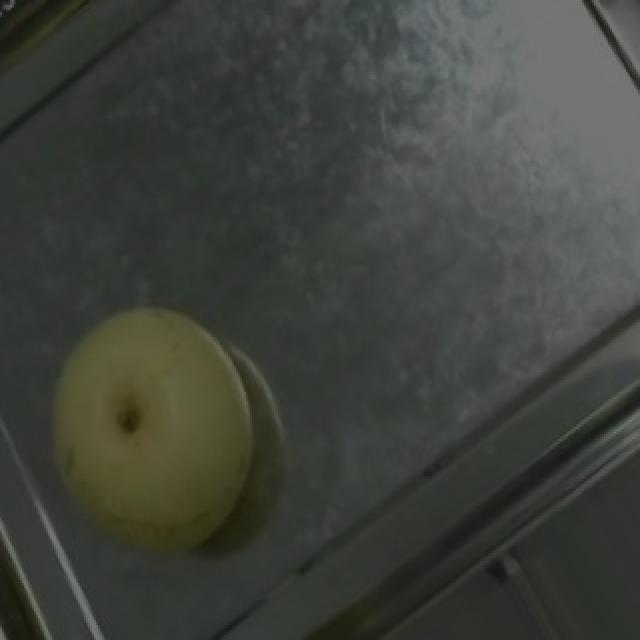Fruit: (2, 266, 304, 600)
